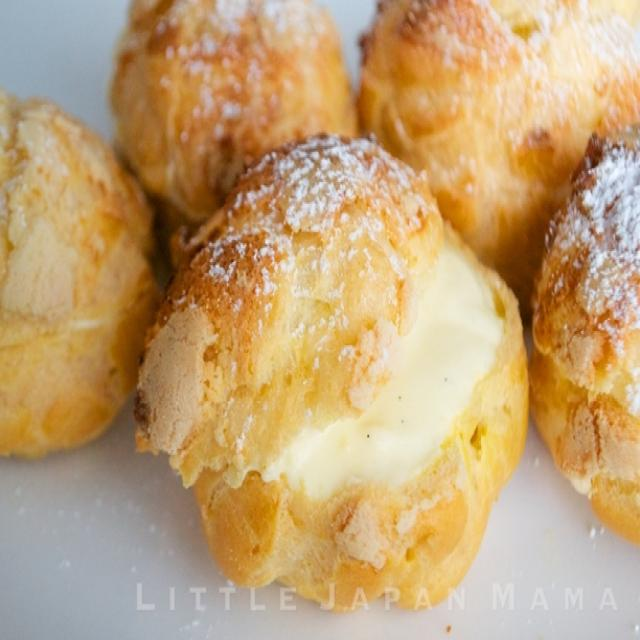炸货点心: (1, 8, 627, 621)
蛋糕甜品: (1, 8, 627, 621)
